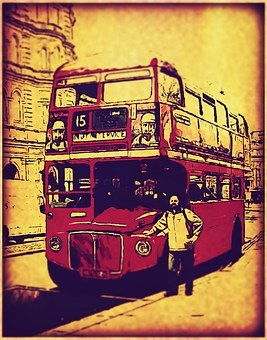bus: (27, 58, 255, 296)
person: (145, 192, 203, 296)
